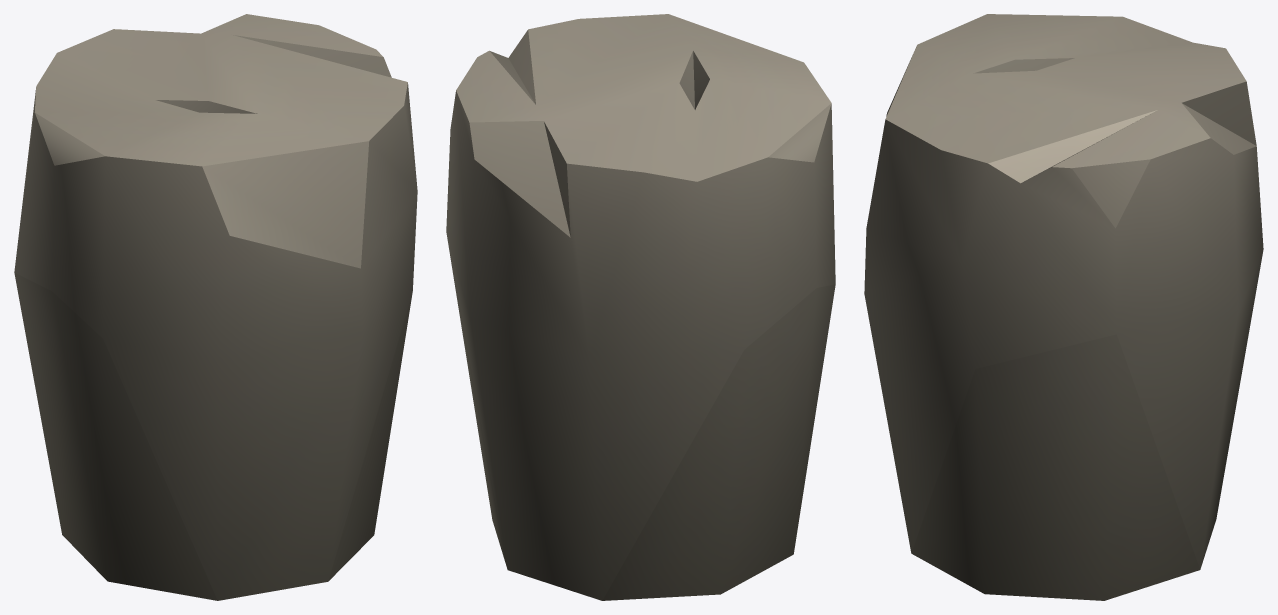
File: Rock_Shrine_1D.fbx
3 renders of one model, left to right at view 1: azimuth 30°, elevation 25°; view 2: azimuth 150°, elevation 25°; view 3: azimuth 270°, elevation 25°, orthographic.
Parts seen in each view (by area): view 1: Rock_Shrine_1D; view 2: Rock_Shrine_1D; view 3: Rock_Shrine_1D.
Boxes of the visible parts, x1=… form: Rock_Shrine_1D: x1=14, y1=14, x2=417, y2=600; Rock_Shrine_1D: x1=446, y1=14, x2=835, y2=600; Rock_Shrine_1D: x1=864, y1=14, x2=1263, y2=600.
Size of the model in its own units: 0.6967 by 0.8903 by 0.6996.
